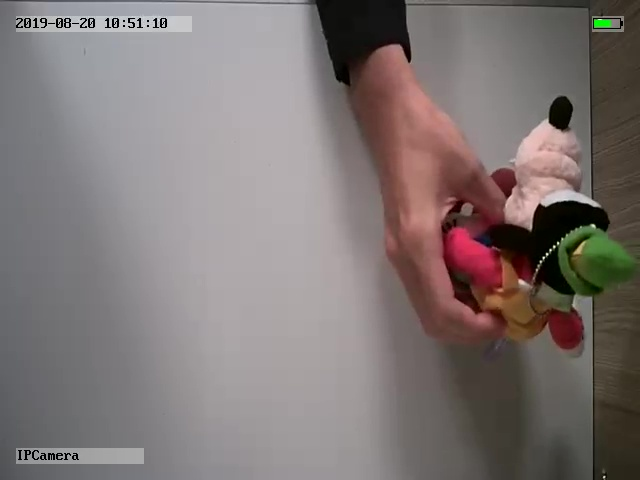goofy: (441, 95, 635, 359)
